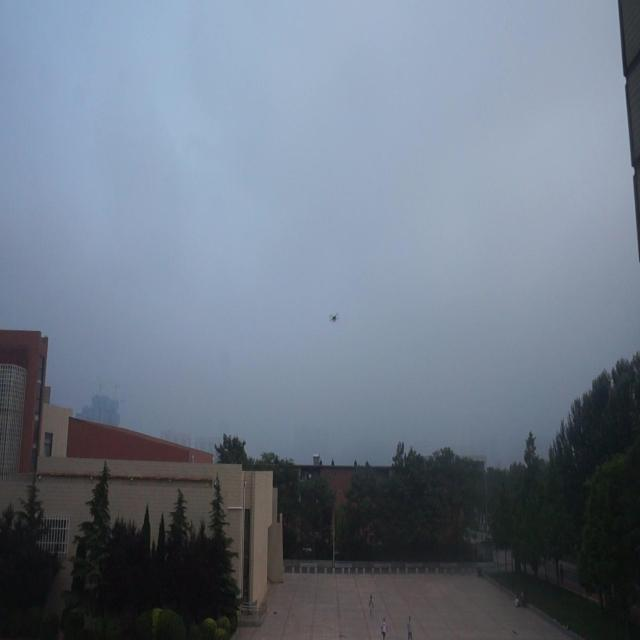drone: (328, 310, 342, 327)
